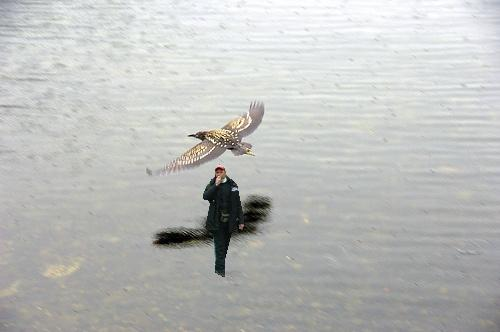tampered: (204, 165, 244, 277)
